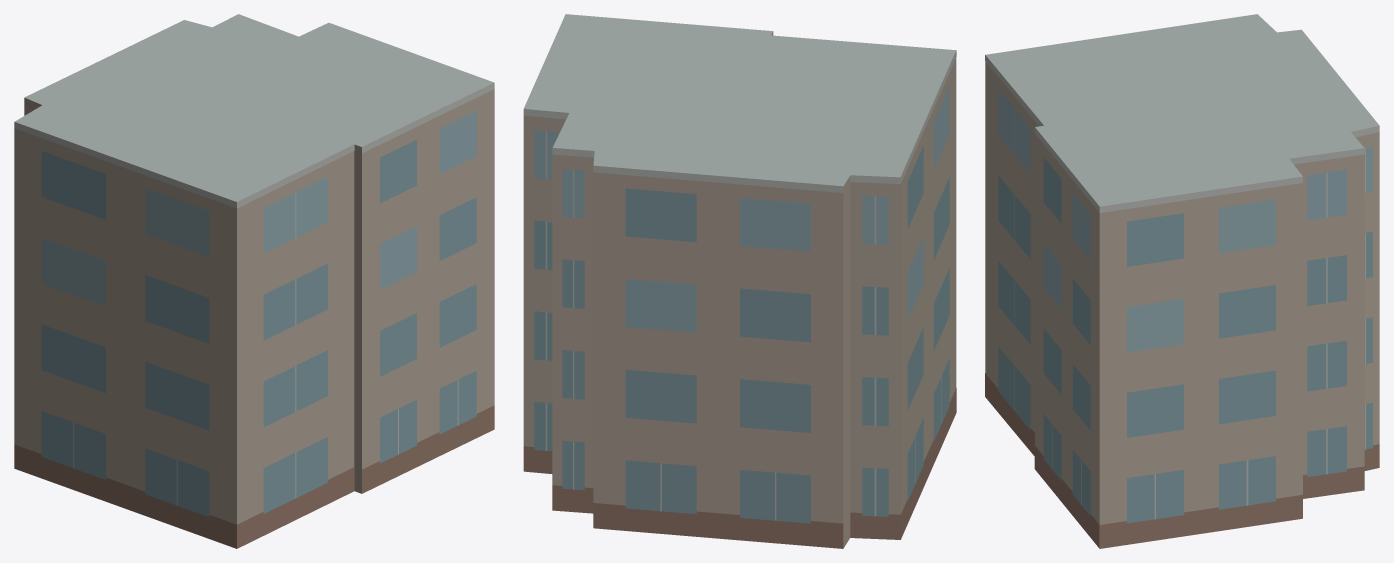
Rendered from survey-upis-32655192.glb.
The picture shows the model from 3 angles, left to right: view 1: azimuth 30°, elevation 25°; view 2: azimuth 150°, elevation 25°; view 3: azimuth 270°, elevation 25°; orthographic projection. The views are drawn at different scales.
Visible parts, largest first — view 1: survey-upis-32655192.tmp; view 2: survey-upis-32655192.tmp; view 3: survey-upis-32655192.tmp.
Boxes of the visible parts, x1=… form: survey-upis-32655192.tmp: x1=14, y1=14, x2=494, y2=548; survey-upis-32655192.tmp: x1=523, y1=14, x2=956, y2=548; survey-upis-32655192.tmp: x1=985, y1=14, x2=1379, y2=548.
Bounding box in the file's own units: 15.84 × 13.1 × 13.7.
